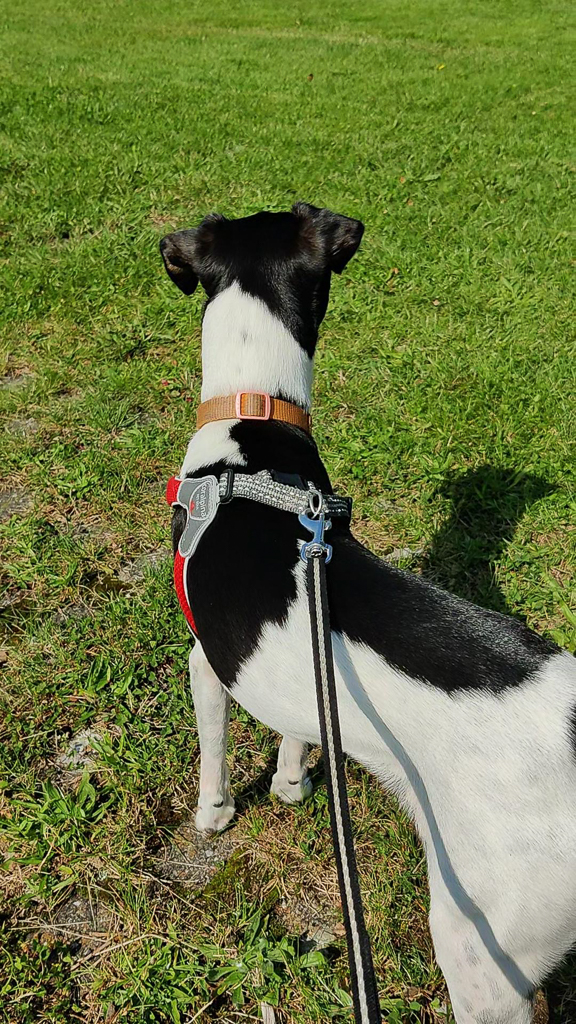Dog: (126, 198, 576, 1024)
